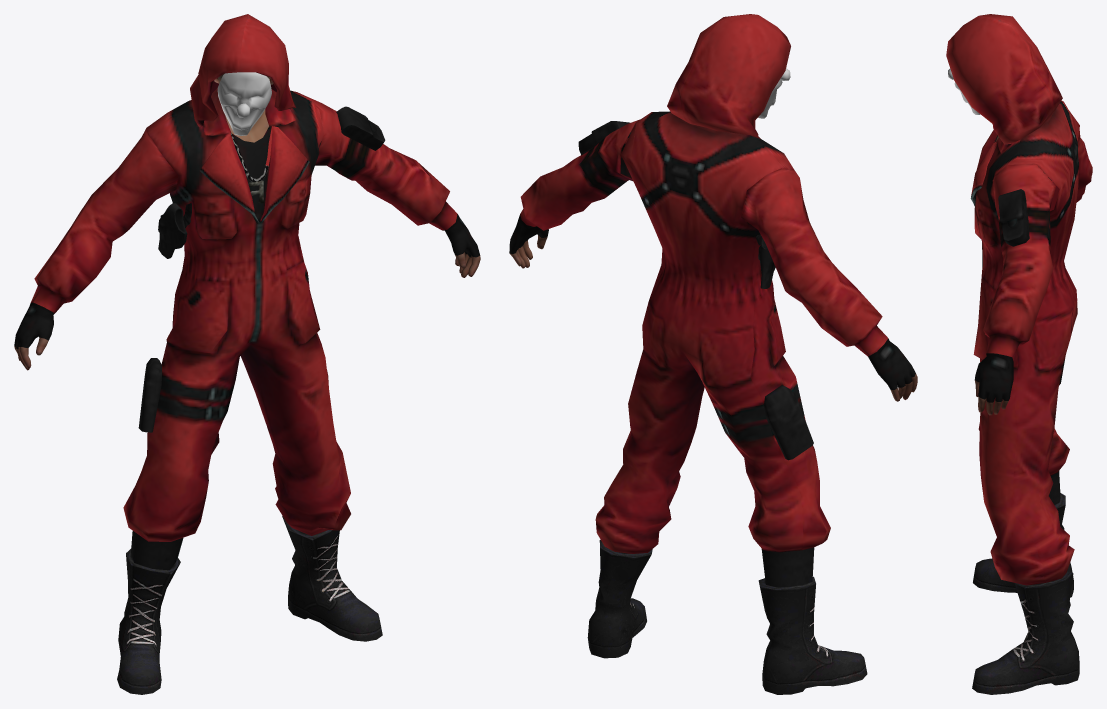
File: red.obj
3 renders of one model, left to right at view 1: azimuth 30°, elevation 25°; view 2: azimuth 150°, elevation 25°; view 3: azimuth 270°, elevation 25°, orthographic. The views are drawn at different scales.
Parts seen in each view (by area): view 1: Mesh_3464.rip_Mesh_3464.rip_mesh0000, Mesh_2669.rip_Mesh_2669.rip_mesh0000; view 2: Mesh_3464.rip_Mesh_3464.rip_mesh0000; view 3: Mesh_3464.rip_Mesh_3464.rip_mesh0000.
Part boxes in pixels (<box>): Mesh_3464.rip_Mesh_3464.rip_mesh0000: <box>14,14,480,694</box>; Mesh_2669.rip_Mesh_2669.rip_mesh0000: <box>217,72,271,135</box>; Mesh_3464.rip_Mesh_3464.rip_mesh0000: <box>509,14,917,694</box>; Mesh_3464.rip_Mesh_3464.rip_mesh0000: <box>946,14,1092,694</box>.
Bounding box in the file's own units: 9.47 × 13.44 × 2.9.
